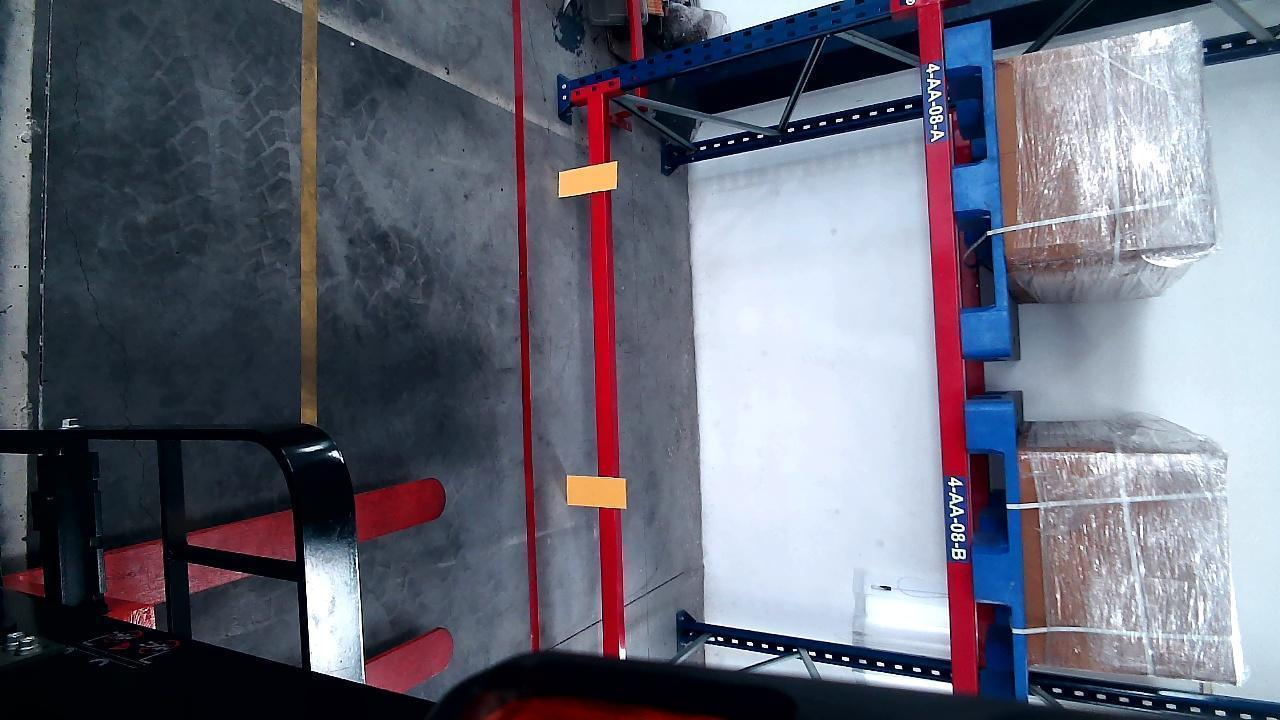red_line: (512, 2, 541, 645)
yellow_line: (297, 0, 321, 426)
